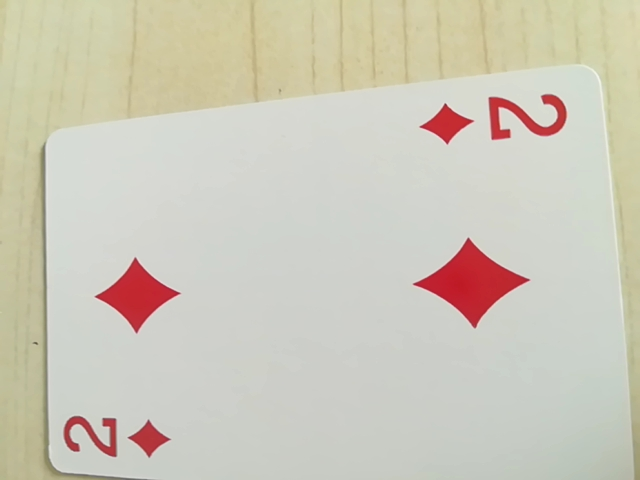fk 2: (419, 89, 568, 149), (58, 403, 184, 473)
